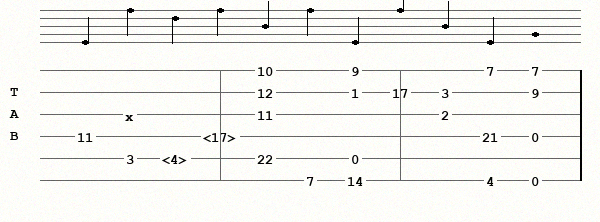0: (351, 152, 363, 165), (531, 174, 543, 187), (531, 130, 543, 143)
1: (351, 86, 363, 99)
10: (257, 64, 277, 77)
11: (77, 130, 97, 143), (257, 108, 277, 121)
12: (257, 86, 277, 99)
14: (347, 174, 367, 187)
17: (392, 86, 412, 99)
2: (441, 108, 453, 121)
21: (482, 130, 502, 143)
22: (257, 152, 277, 165)
3: (126, 152, 138, 165), (441, 86, 453, 99)
4: (486, 174, 498, 187)
7: (306, 174, 318, 187), (486, 64, 498, 77), (531, 64, 543, 77)
9: (351, 64, 363, 77), (531, 86, 543, 99)
harmonic: (203, 130, 241, 143), (162, 152, 192, 165)
x: (125, 109, 138, 119)
